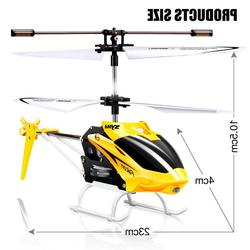drone: (9, 29, 217, 224)
